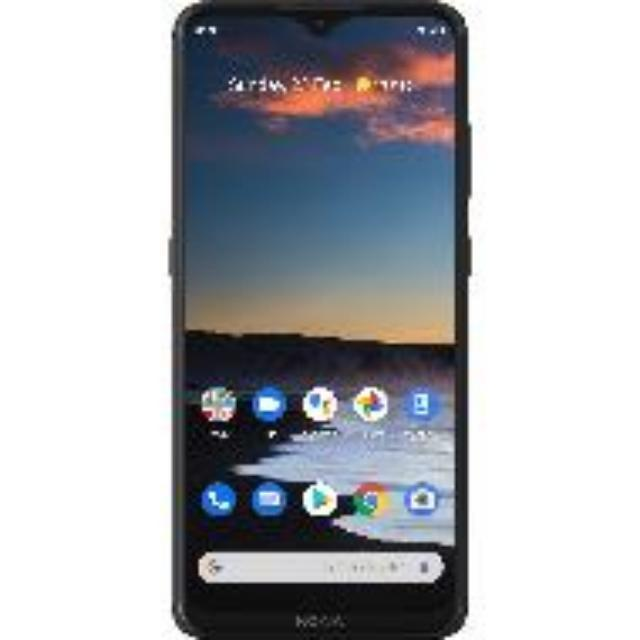phone: (165, 5, 483, 615)
